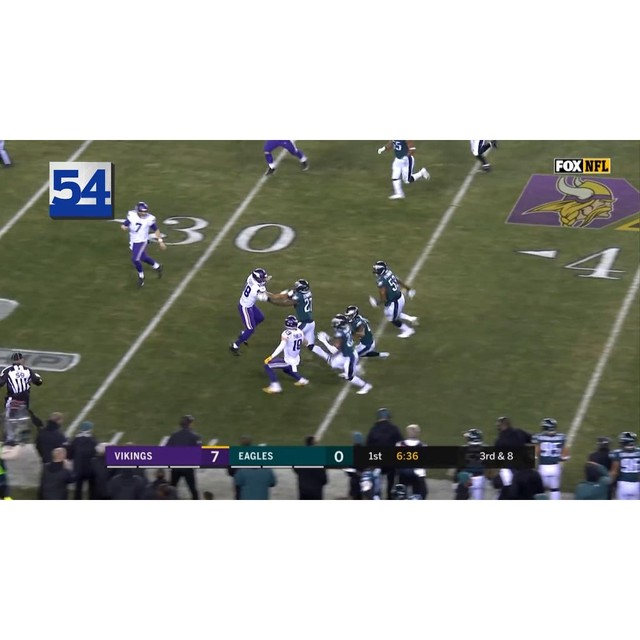american-football-player: (228, 268, 286, 357), (277, 279, 335, 366), (120, 201, 167, 288), (324, 313, 373, 395), (370, 260, 420, 338), (262, 314, 309, 393), (378, 140, 431, 200), (345, 305, 390, 363), (262, 140, 309, 176), (467, 140, 500, 172)
referee: (0, 350, 45, 427)
